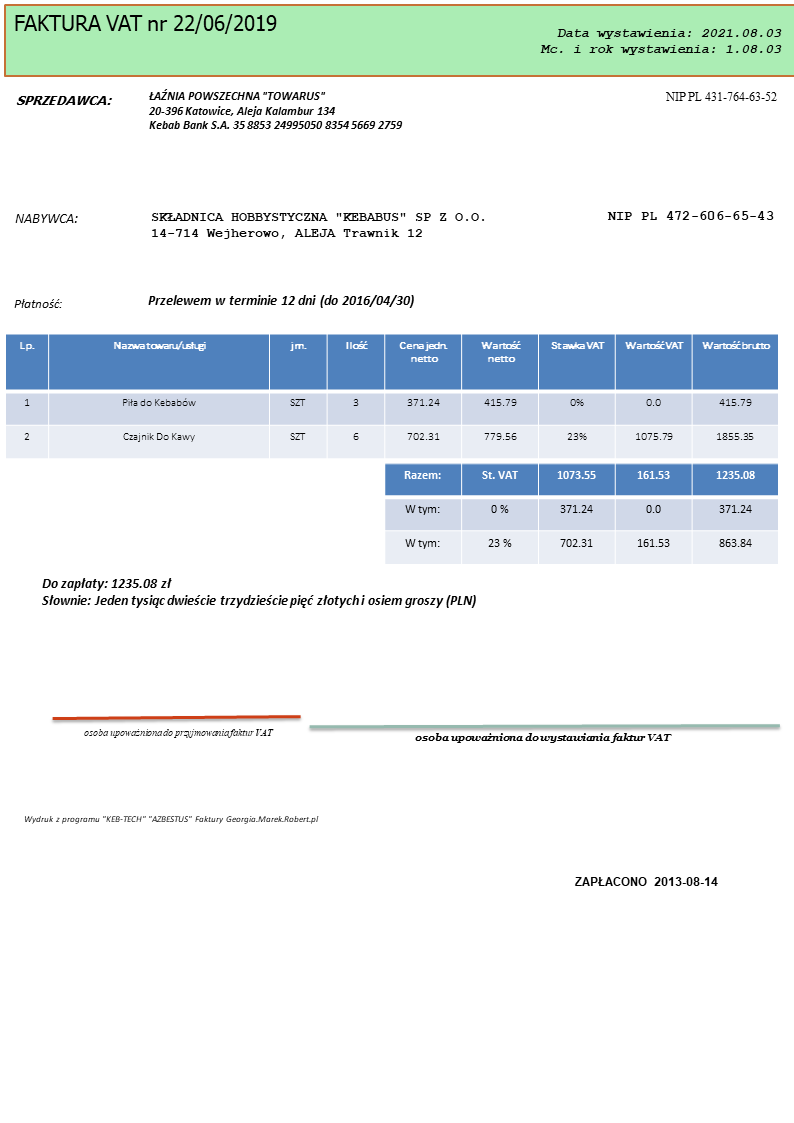Table: (3, 333, 779, 458), (383, 462, 779, 564)
TextBox: (39, 573, 478, 611), (145, 86, 403, 133), (148, 207, 486, 240), (537, 24, 784, 58), (10, 10, 280, 35), (22, 811, 320, 828), (145, 293, 416, 310), (412, 729, 671, 746), (80, 726, 276, 741), (605, 207, 776, 223), (571, 873, 719, 889), (662, 89, 779, 106), (14, 91, 114, 110), (12, 210, 79, 227), (11, 294, 62, 312)
